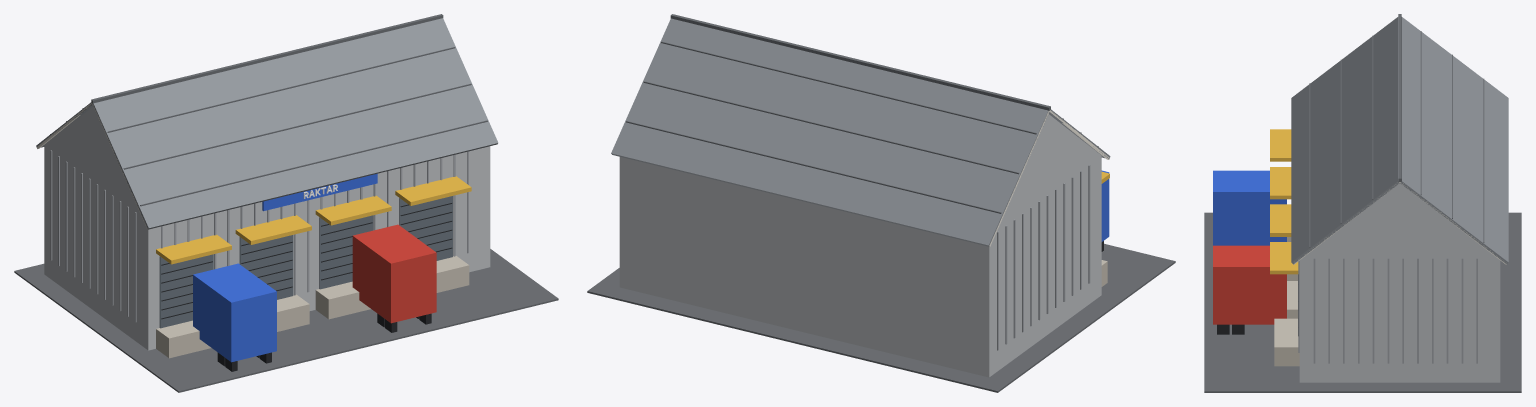
The model's file is Sanayi_depo_1_Hafif.fbx.
3 views of the same model, side by side, from view 1: azimuth 30°, elevation 25°; view 2: azimuth 150°, elevation 25°; view 3: azimuth 270°, elevation 25° (orthographic). The views are drawn at different scales.
Parts seen in each view (by area): view 1: Sanayi_depo_1_Hafif; view 2: Sanayi_depo_1_Hafif; view 3: Sanayi_depo_1_Hafif.
Boxes of the visible parts, x1,y1,x2,y2 form: Sanayi_depo_1_Hafif: [14, 14, 558, 392]; Sanayi_depo_1_Hafif: [587, 14, 1175, 392]; Sanayi_depo_1_Hafif: [1204, 14, 1521, 392].
Size of the model in its own units: 20 by 10.81 by 15.
